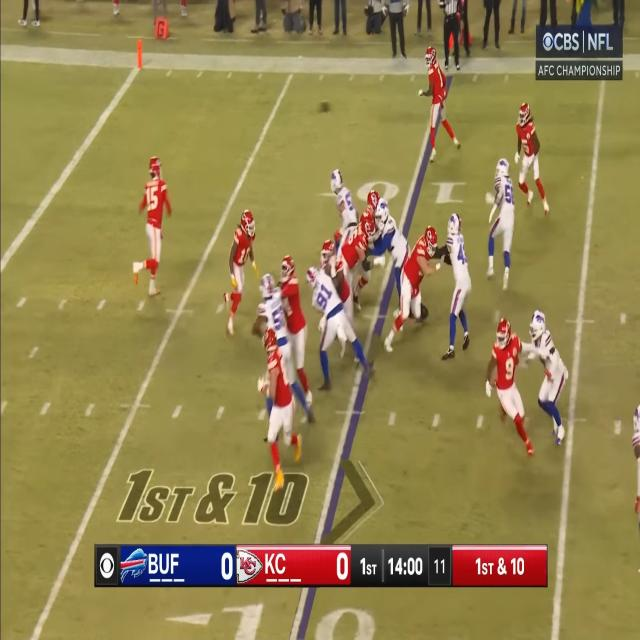Ball: (319, 100, 332, 114)
